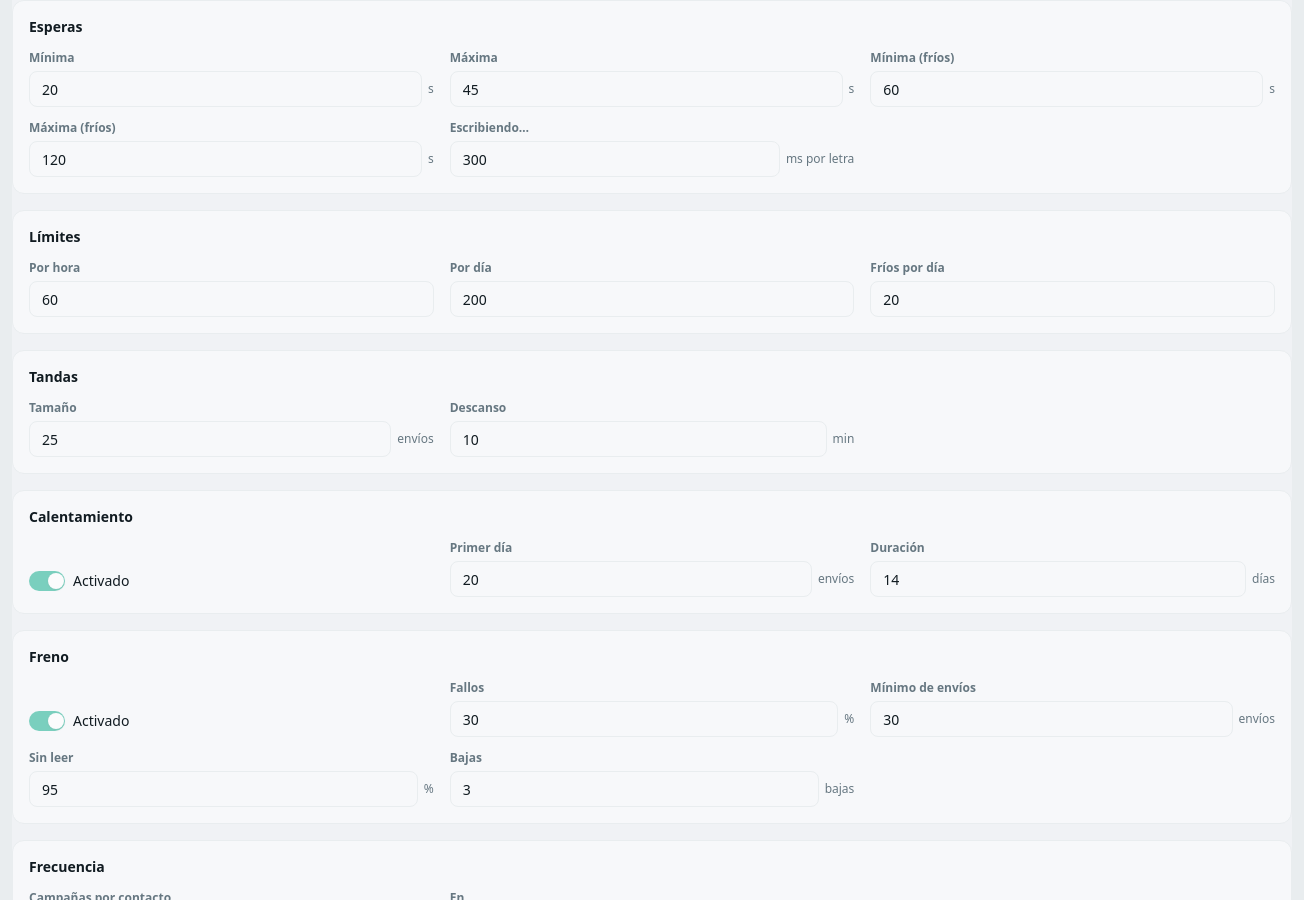
Test: Ritmo de la cuenta › Guardar solo se habilita si algo cambió
Expected: the field labelled "Mínima" holds "20", [29,71,422,107]
Replace the text in the field labelled "Por día" with "150" at [652, 299], box [450,281,854,317]
(page scrolled)
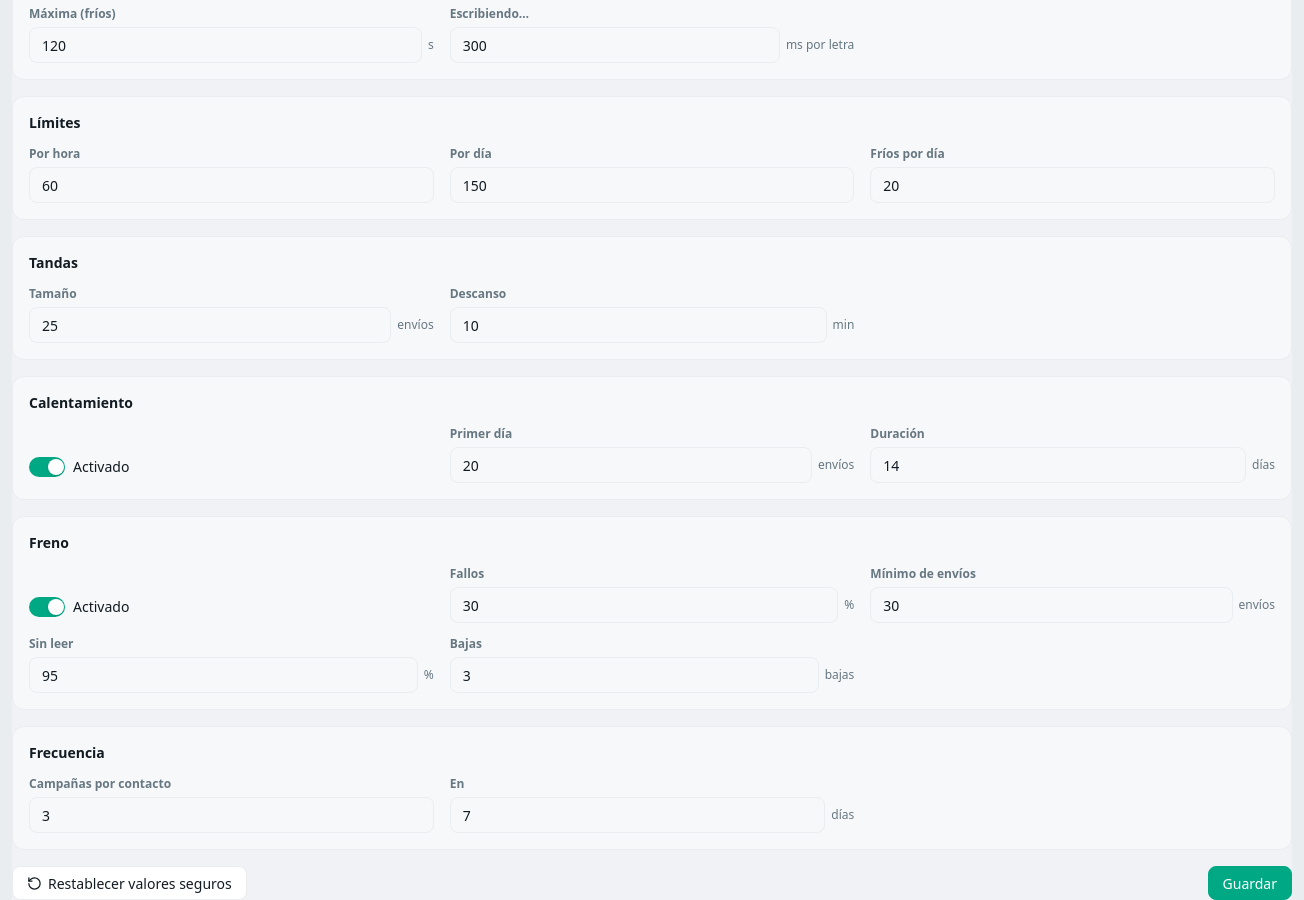
Expected: the button "Guardar" is enabled, [1208,866,1292,899]
